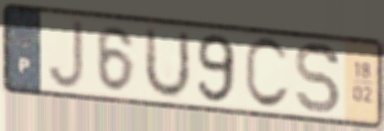6: (93, 23, 139, 94)
9: (195, 31, 239, 106)
C: (242, 35, 293, 113)
J: (46, 18, 86, 92)
S: (293, 40, 343, 117)
U: (141, 23, 193, 101)
